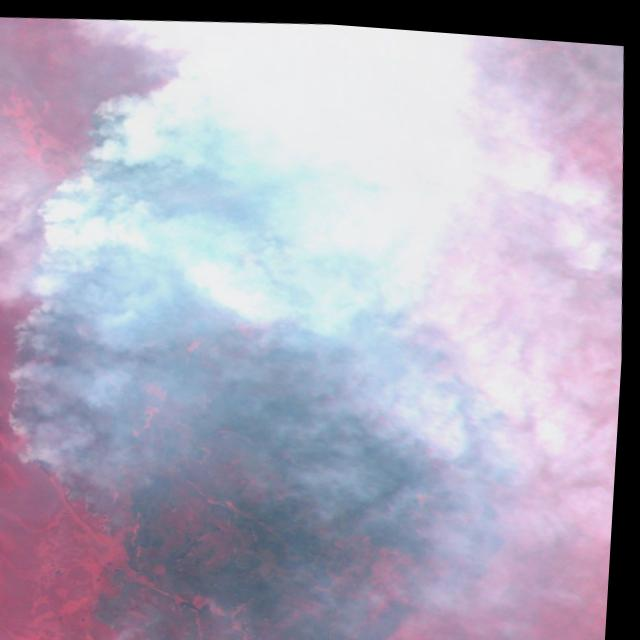fire: (0, 1, 478, 640)
